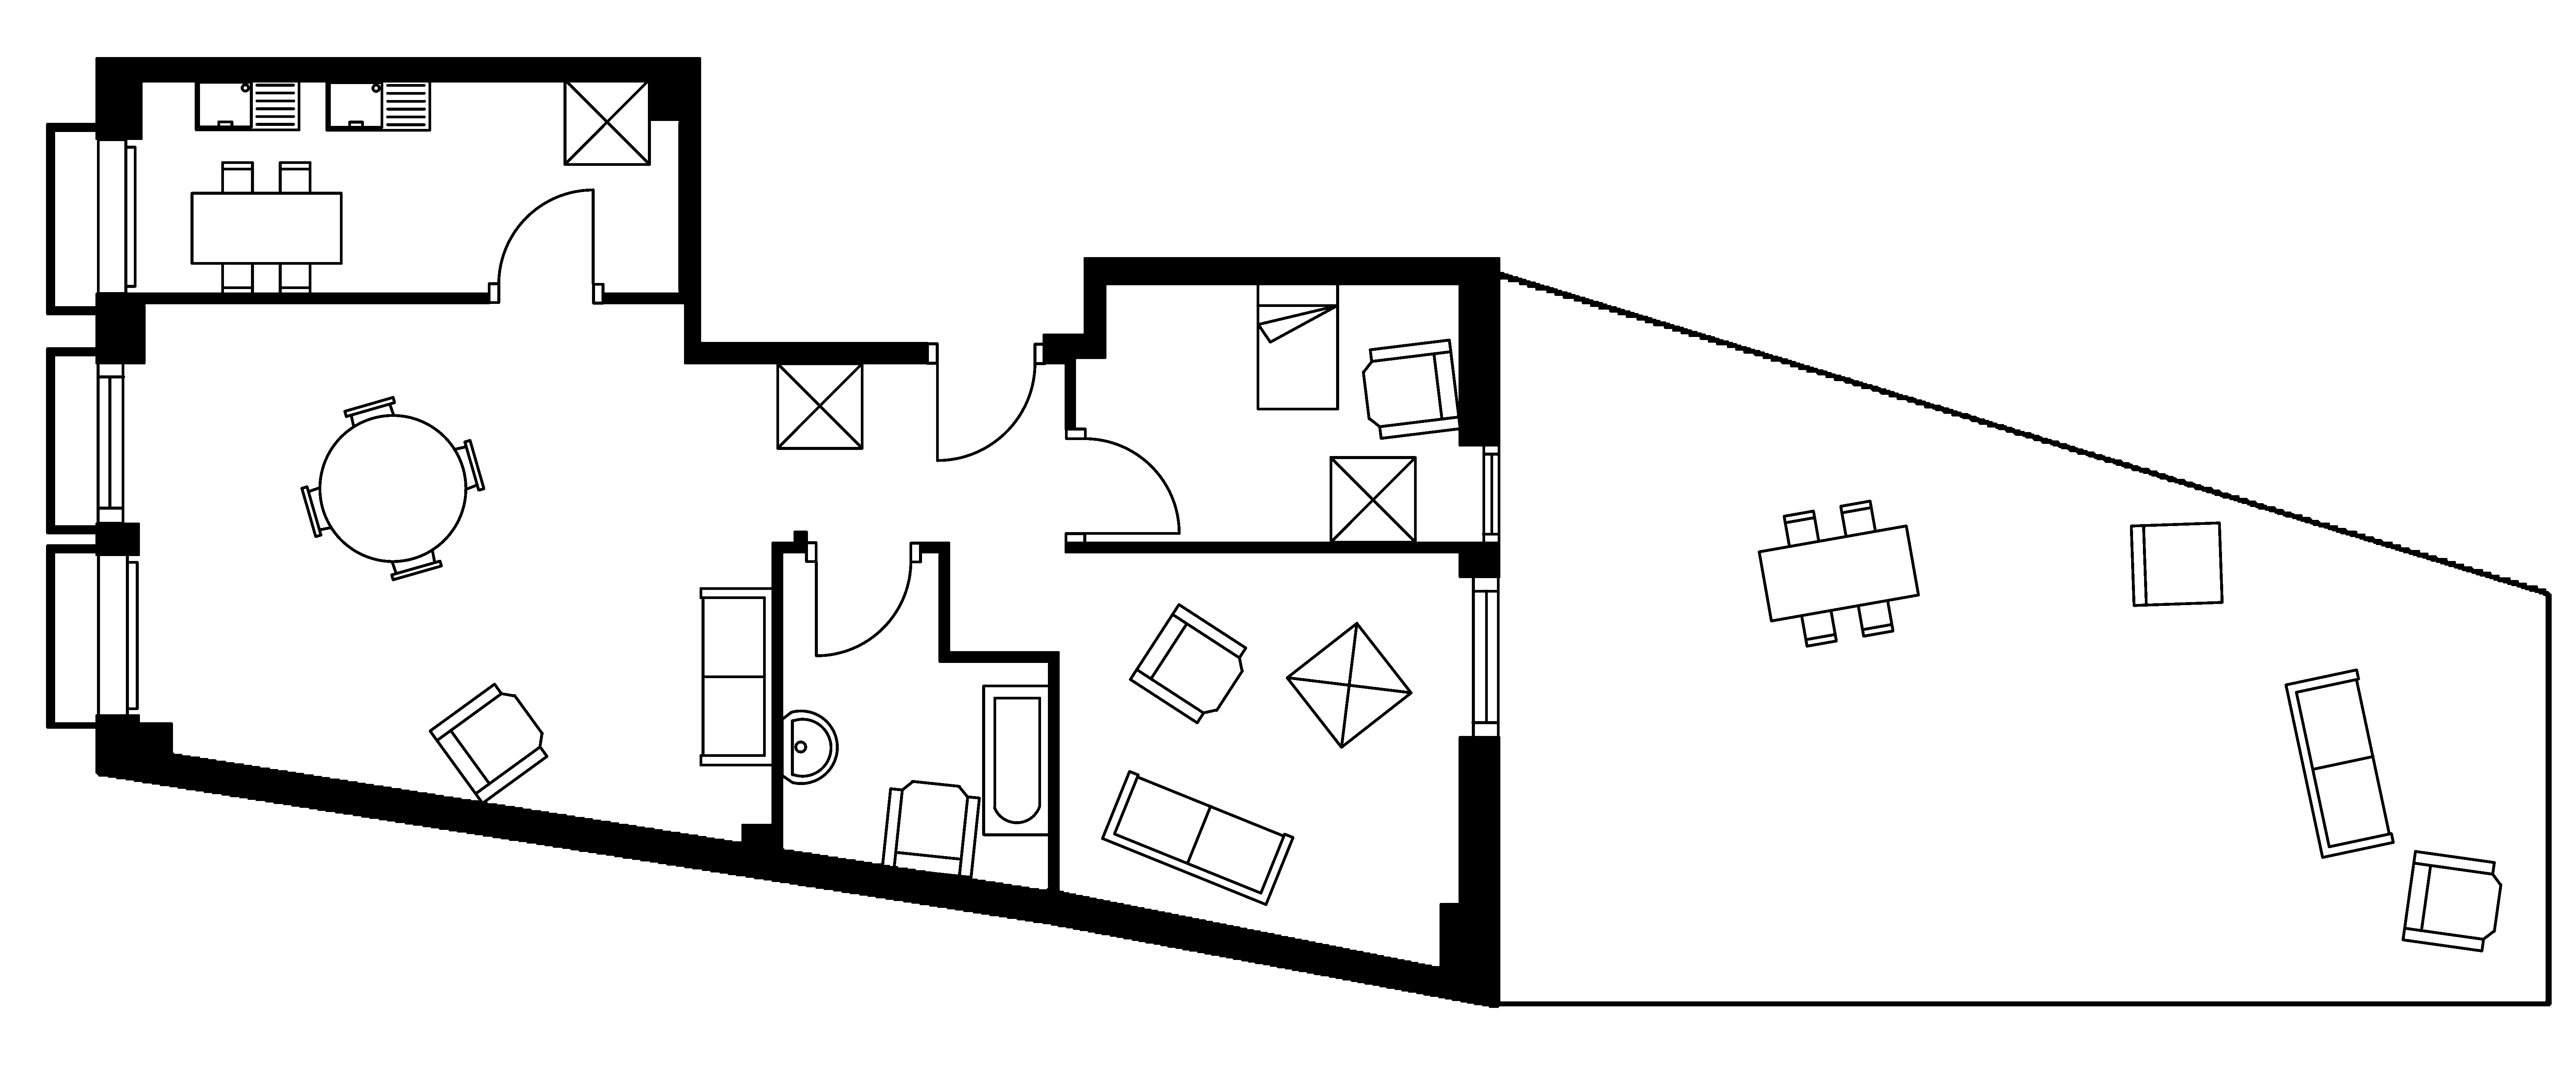armchair: (427, 682, 549, 804), (1129, 602, 1247, 725), (2400, 849, 2502, 952), (1362, 337, 1462, 441), (881, 779, 981, 878)
bed: (1255, 281, 1339, 411)
coffee_table: (1285, 622, 1413, 748), (562, 77, 651, 166), (775, 362, 864, 451), (1329, 456, 1418, 544)
dining_table: (1756, 498, 1920, 648), (189, 160, 343, 296)
large_sofa: (1101, 770, 1295, 906), (2284, 668, 2395, 858), (698, 587, 774, 766)
round_table: (299, 395, 486, 582)
sink: (194, 77, 301, 132), (325, 77, 432, 132)
small_sink: (780, 709, 838, 784)
small_sofa: (2129, 521, 2224, 607)
tub: (981, 684, 1051, 837)
